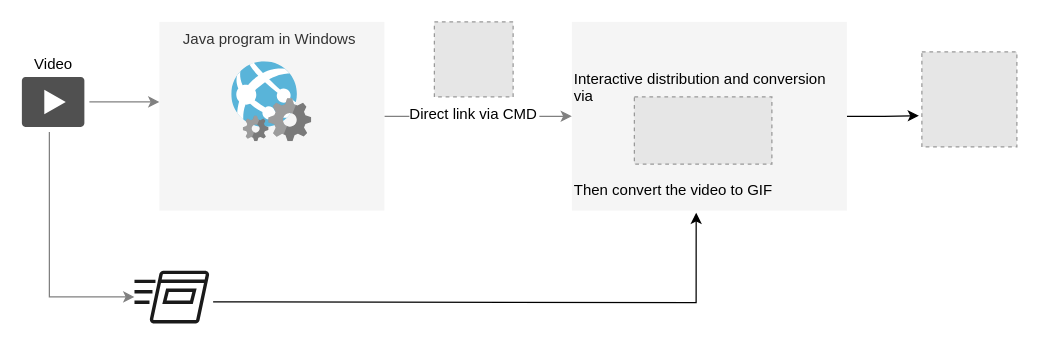
Image size: 1039x345. Some labels were removed from this diagram. Grey dashed boxes stand in for pictures. The shapes that lost their labels are listed below. From the top down, each one's box as (x1, y1, x2, y2) in pixels, then its label:
(231, 61, 311, 141): Program
(571, 21, 846, 210): Shell script in Linux Subsystem
